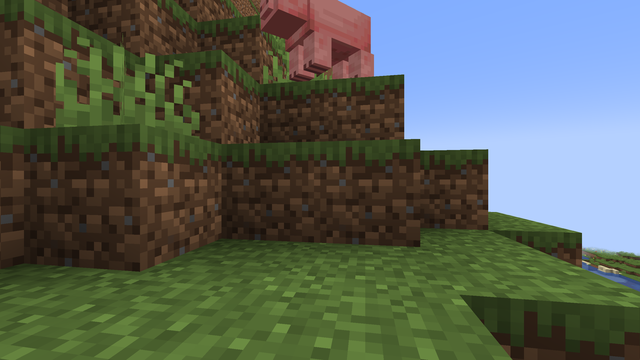cochons: (287, 0, 361, 80)
